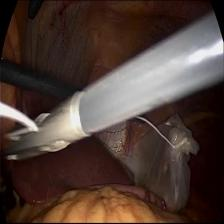Grasper: (0, 97, 77, 166)
Specimen Bag: (128, 110, 202, 218)
